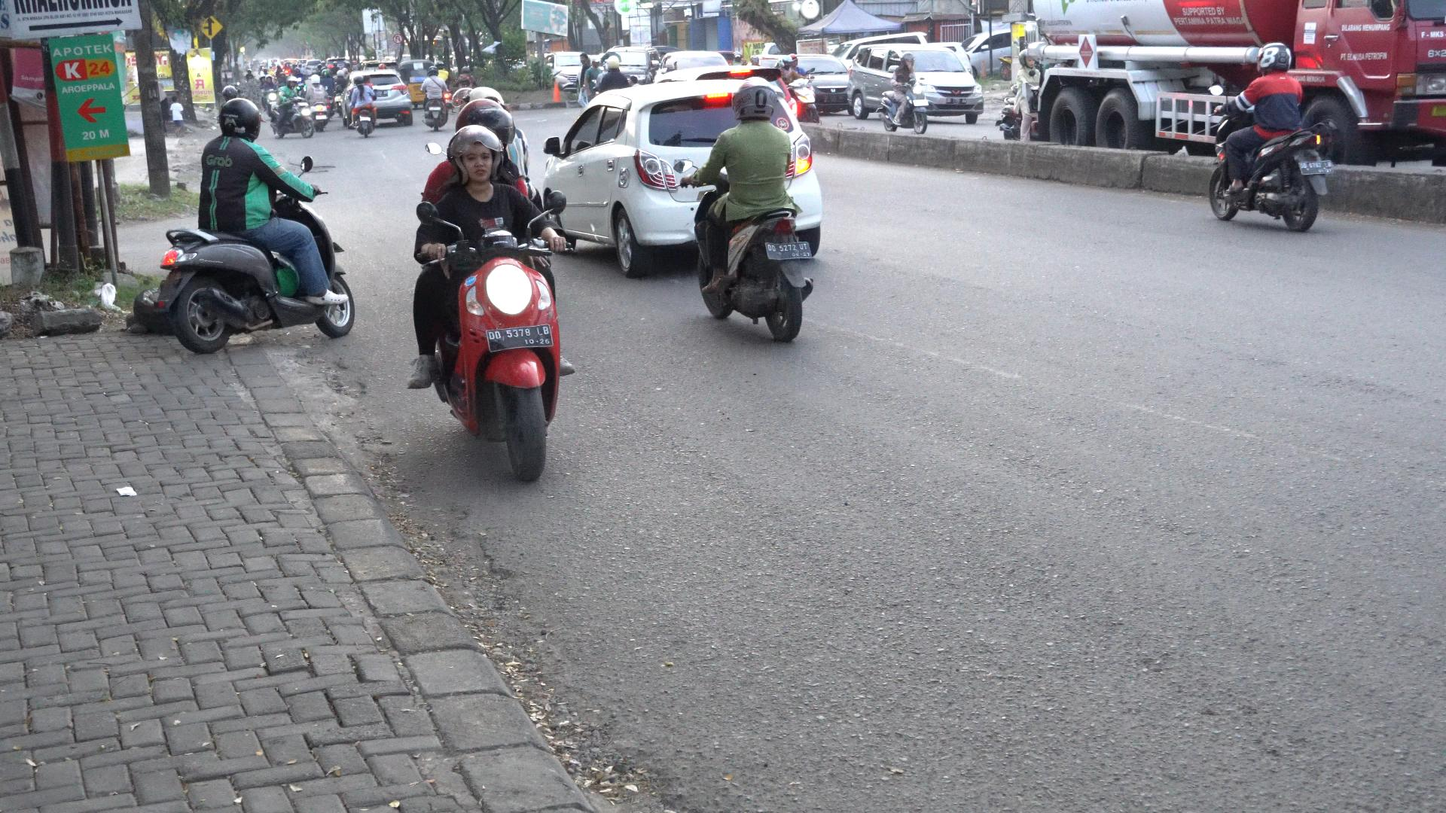number-plate: (486, 323, 554, 352)
